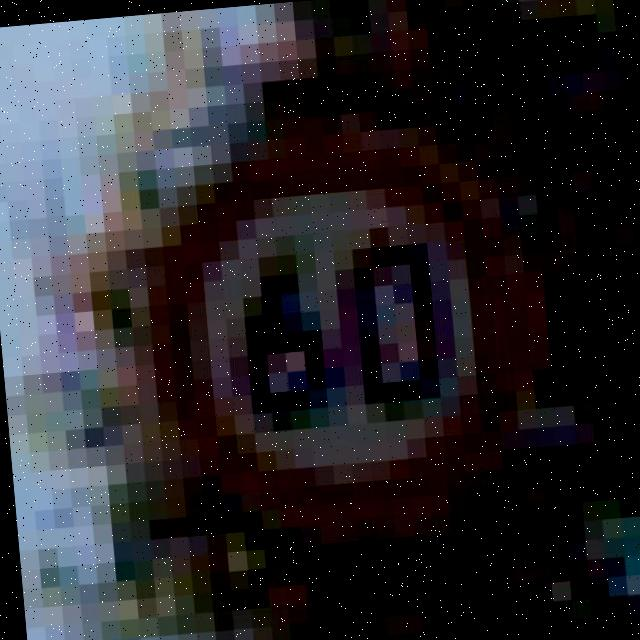Ograniczenie predkosci do 60: (24, 50, 640, 616)
